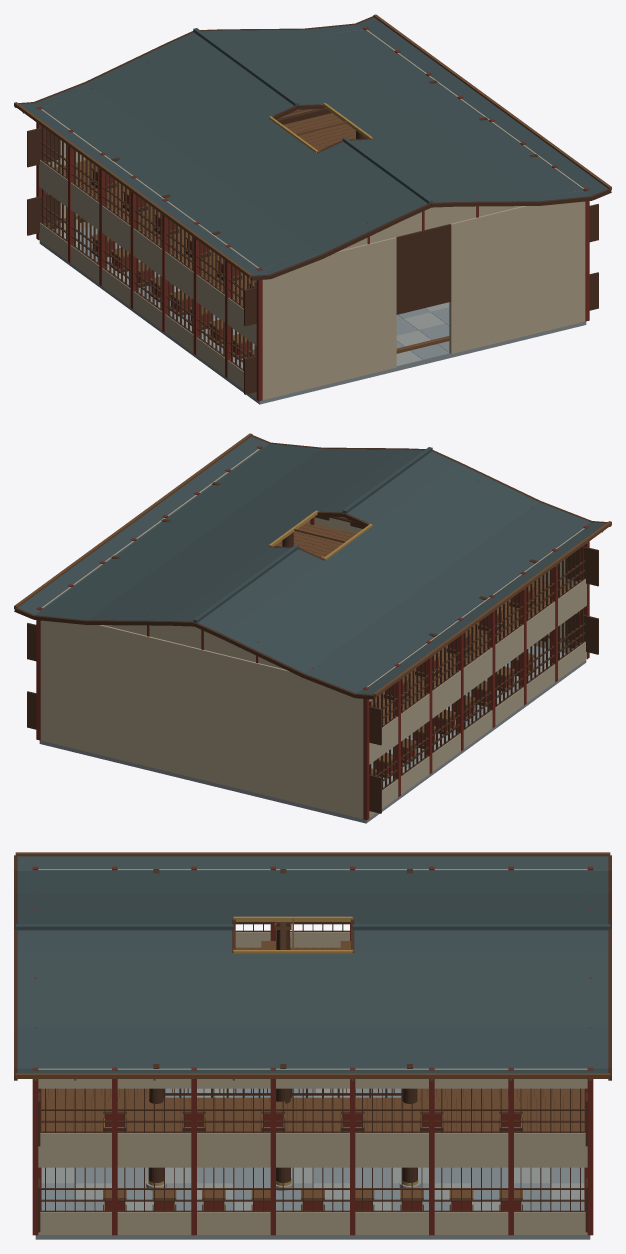
File: pavilion-v1.glb
3 views of the same model, one above another, from view 1: azimuth 30°, elevation 25°; view 2: azimuth 150°, elevation 25°; view 3: azimuth 270°, elevation 25° (orthographic). The views are drawn at different scales.
Parts seen in each view (by area): view 1: PitchedRoof_RoofTile, EntryWall_Plaster, SideWallBands_Plaster, SideLattice_Walnut, WallPosts_Redwood, EntryLintel_Walnut, WallPanels_Walnut, RoofFrame_Walnut, EaveTrim_Cedar, GroundBase_Stone, StonePaving_Stone, GableInfill_Plaster (+6 smaller); view 2: PitchedRoof_RoofTile, NorthWall_Plaster, SideWallBands_Plaster, SideLattice_Walnut, WallPosts_Redwood, WallPanels_Walnut, RoofFrame_Walnut, EaveTrim_Cedar, GroundBase_Stone, GableInfill_Plaster, UpperSlab_0_Cedar, Ridge_RoofTile (+3 smaller); view 3: PitchedRoof_RoofTile, SideWallBands_Plaster, SideLattice_Walnut, UpperSlab_1_Cedar, StonePaving_Stone, WallPosts_Redwood, EaveTrim_Cedar, StonePaving_StoneLight, Ridge_RoofTile, GroundBase_Stone, RoofFrame_Walnut, UpperPlankSeams_Walnut (+5 smaller).
Boxes of the visible parts, <box> form: PitchedRoof_RoofTile: <box>20,17,607,275</box>; EntryWall_Plaster: <box>262,201,585,399</box>; SideWallBands_Plaster: <box>39,30,583,398</box>; SideLattice_Walnut: <box>40,127,256,371</box>; WallPosts_Redwood: <box>36,27,589,401</box>; EntryLintel_Walnut: <box>396,224,451,314</box>; WallPanels_Walnut: <box>27,127,598,394</box>; RoofFrame_Walnut: <box>14,16,611,280</box>; EaveTrim_Cedar: <box>14,14,611,278</box>; GroundBase_Stone: <box>39,241,586,404</box>; StonePaving_Stone: <box>76,226,449,368</box>; GableInfill_Plaster: <box>46,30,582,250</box>; PitchedRoof_RoofTile: <box>18,436,605,694</box>; NorthWall_Plaster: <box>40,620,363,818</box>; SideWallBands_Plaster: <box>42,449,586,817</box>; SideLattice_Walnut: <box>369,546,585,790</box>; WallPosts_Redwood: <box>36,446,589,820</box>; WallPanels_Walnut: <box>27,516,598,813</box>; RoofFrame_Walnut: <box>14,435,611,699</box>; EaveTrim_Cedar: <box>14,433,611,697</box>; GroundBase_Stone: <box>39,660,586,823</box>; GableInfill_Plaster: <box>43,449,579,669</box>; UpperSlab_0_Cedar: <box>372,579,569,724</box>; Ridge_RoofTile: <box>193,447,432,622</box>; PitchedRoof_RoofTile: <box>17,856,608,1073</box>; SideWallBands_Plaster: <box>38,869,587,1234</box>; SideLattice_Walnut: <box>40,924,585,1211</box>; UpperSlab_1_Cedar: <box>41,1097,584,1131</box>; StonePaving_Stone: <box>41,1088,584,1210</box>; WallPosts_Redwood: <box>32,866,593,1235</box>; EaveTrim_Cedar: <box>15,852,610,1078</box>; StonePaving_StoneLight: <box>41,1088,584,1210</box>; Ridge_RoofTile: <box>15,924,610,930</box>; GroundBase_Stone: <box>35,1235,590,1239</box>; RoofFrame_Walnut: <box>14,855,611,1080</box>; UpperPlankSeams_Walnut: <box>46,948,581,1130</box>.
Bounding box in the file's own units: 26.6 × 11.89 × 30.18.
